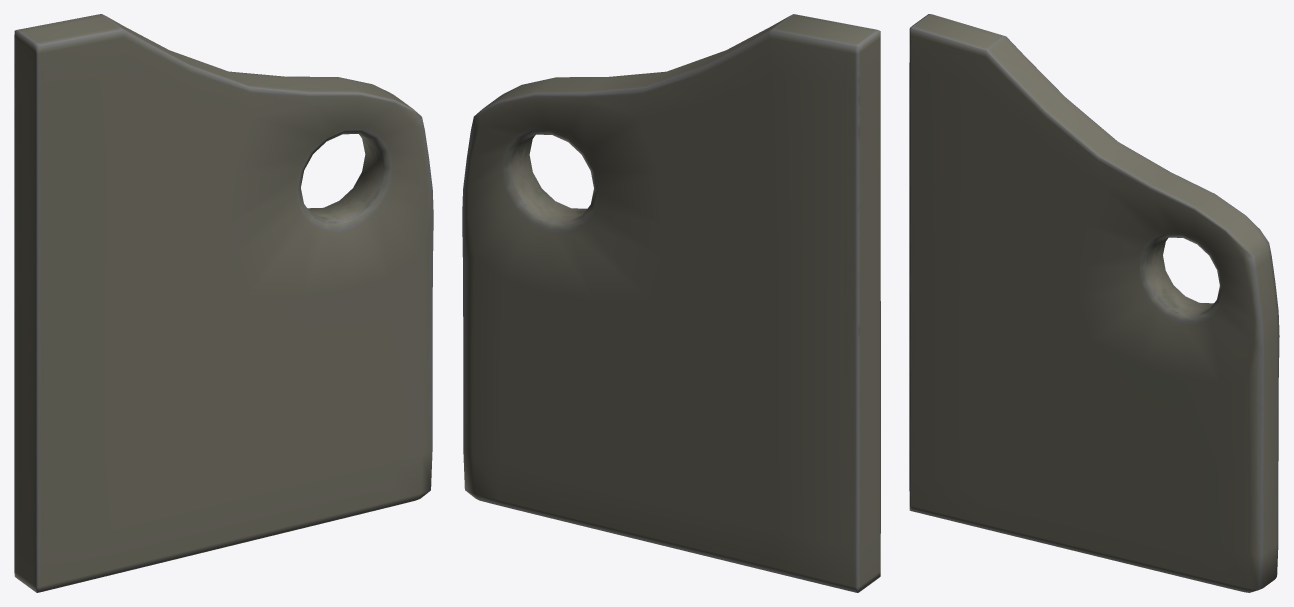
The model's file is ChairEnd.glb.
The picture shows the model from 3 angles, left to right: view 1: azimuth 30°, elevation 25°; view 2: azimuth 150°, elevation 25°; view 3: azimuth 330°, elevation 25°; orthographic projection. The views are drawn at different scales.
Parts seen in each view (by area): view 1: Furniture_low.001; view 2: Furniture_low.001; view 3: Furniture_low.001.
Boxes of the visible parts, x1=… form: Furniture_low.001: x1=14, y1=14, x2=433, y2=592; Furniture_low.001: x1=462, y1=14, x2=880, y2=592; Furniture_low.001: x1=909, y1=14, x2=1279, y2=592.
Size of the model in its own units: 1.56 by 2.05 by 0.1591.
1 material, 1 textured.
